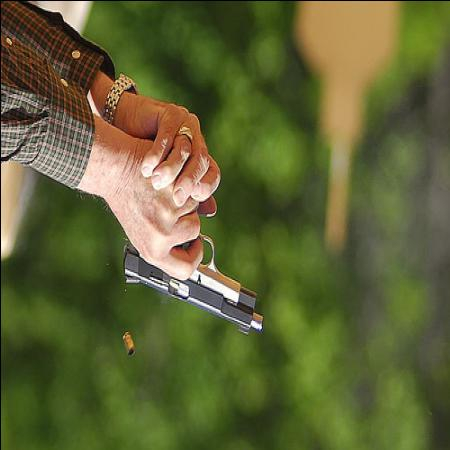Pistol: (120, 231, 262, 341)
